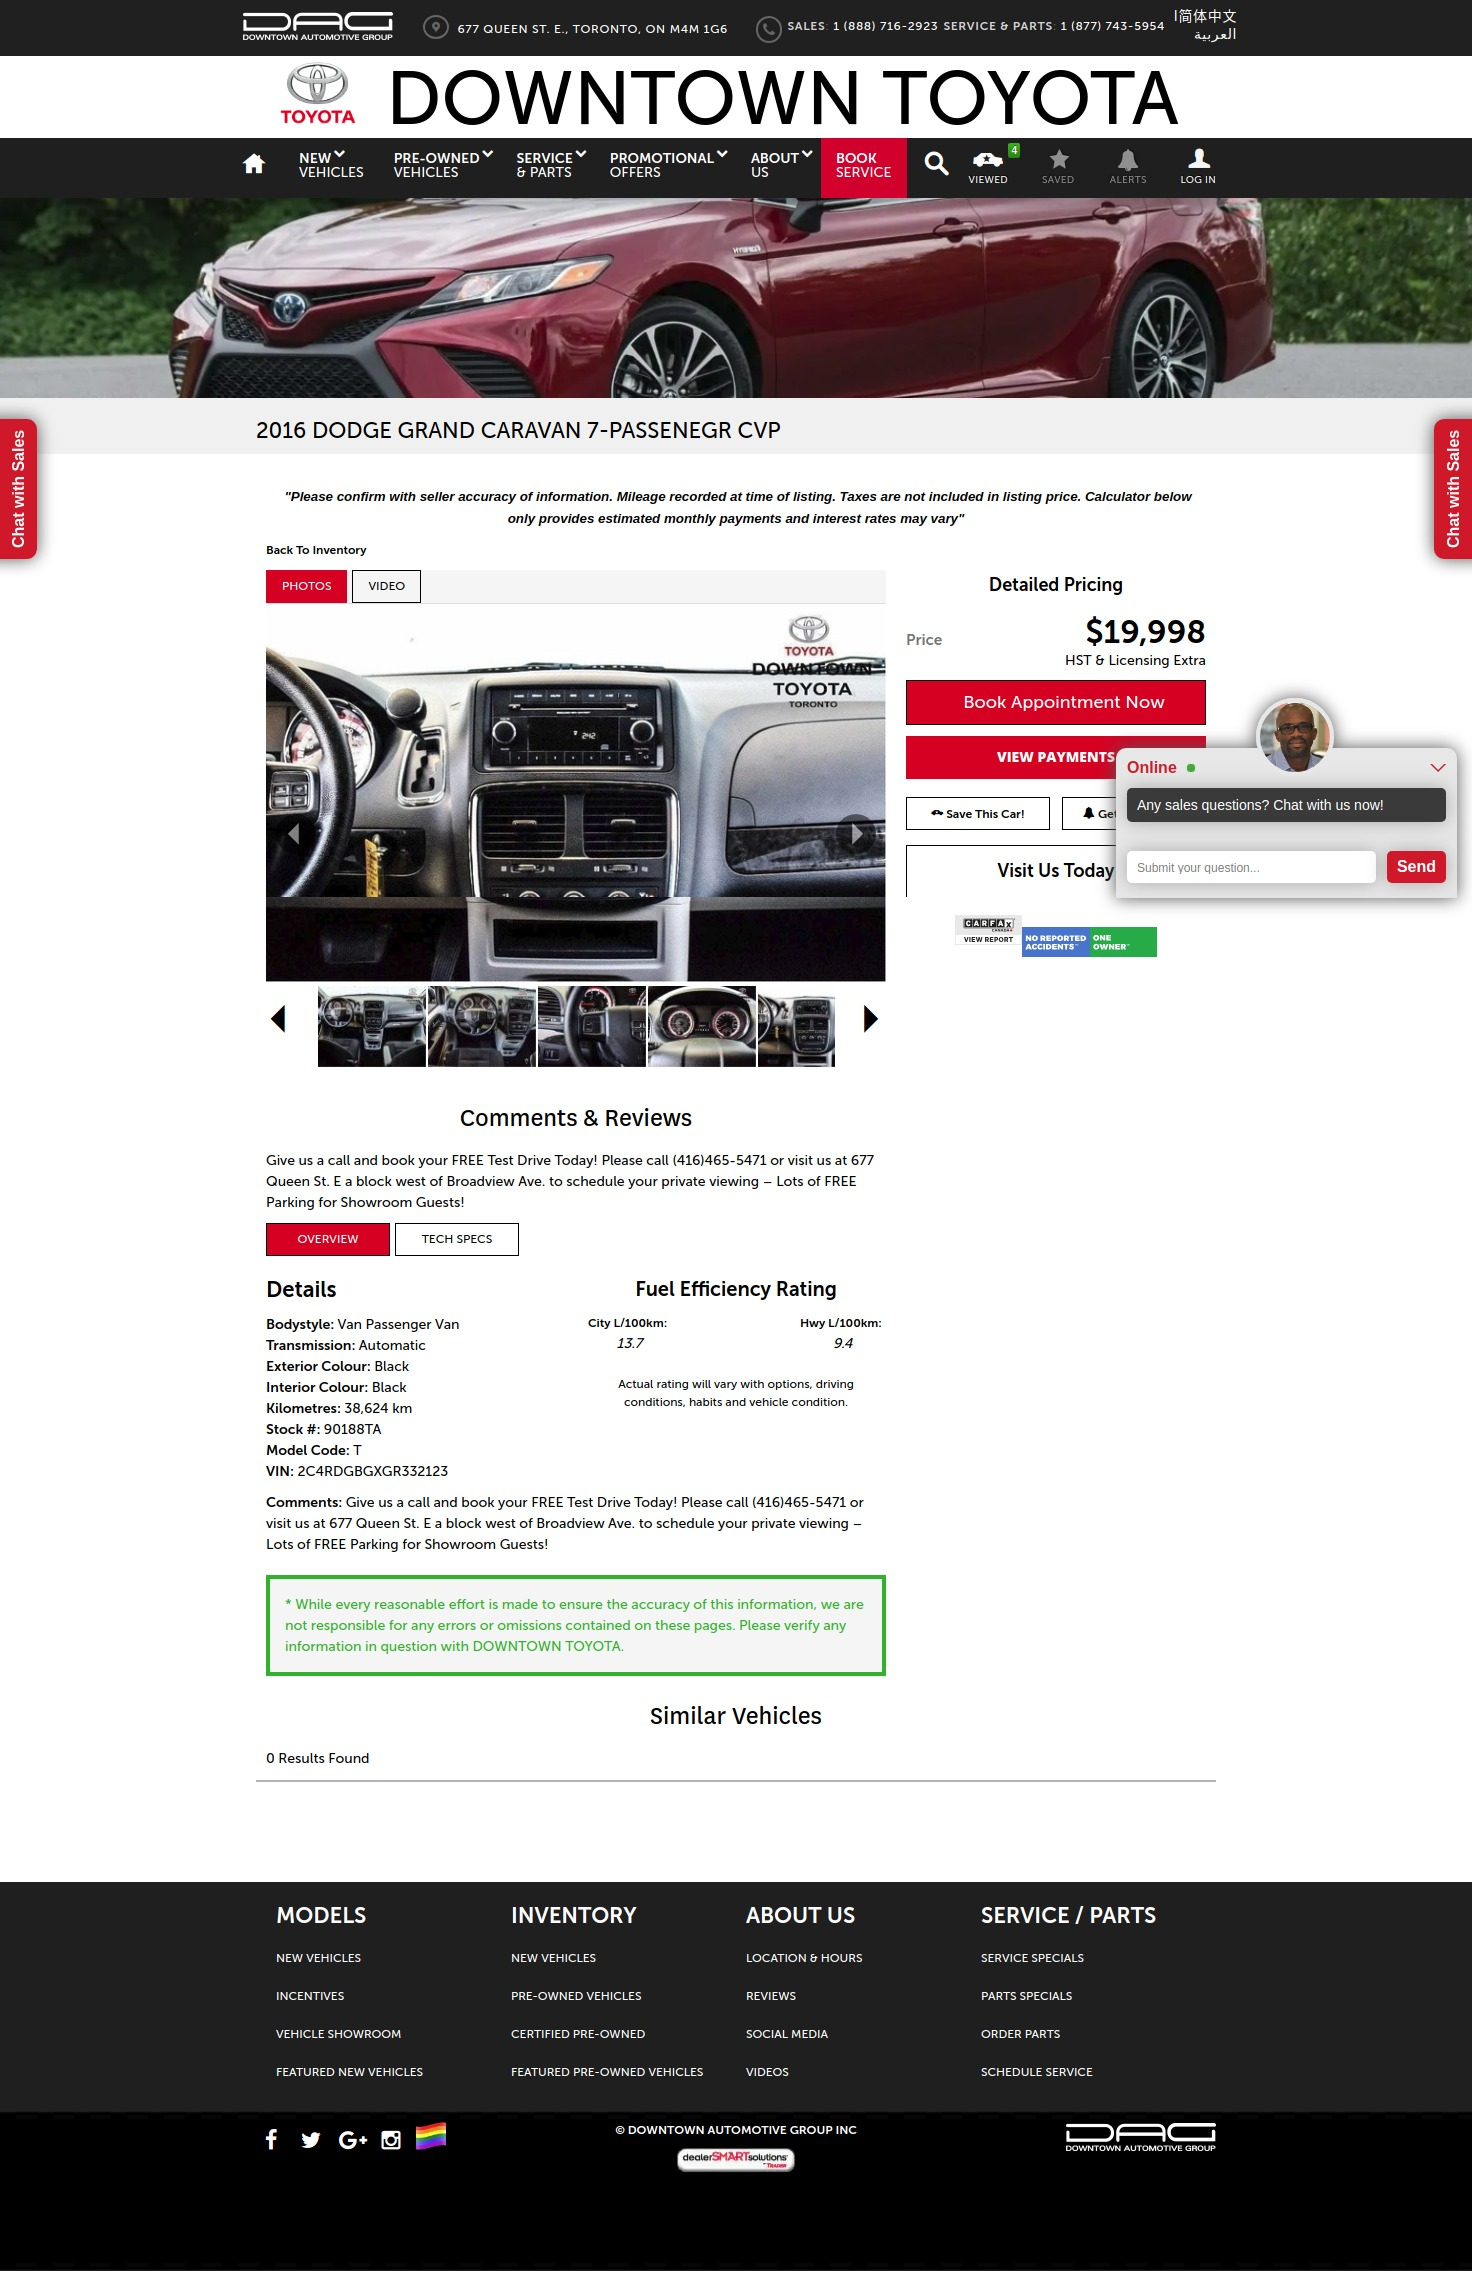car: (864, 1005, 879, 1033)
